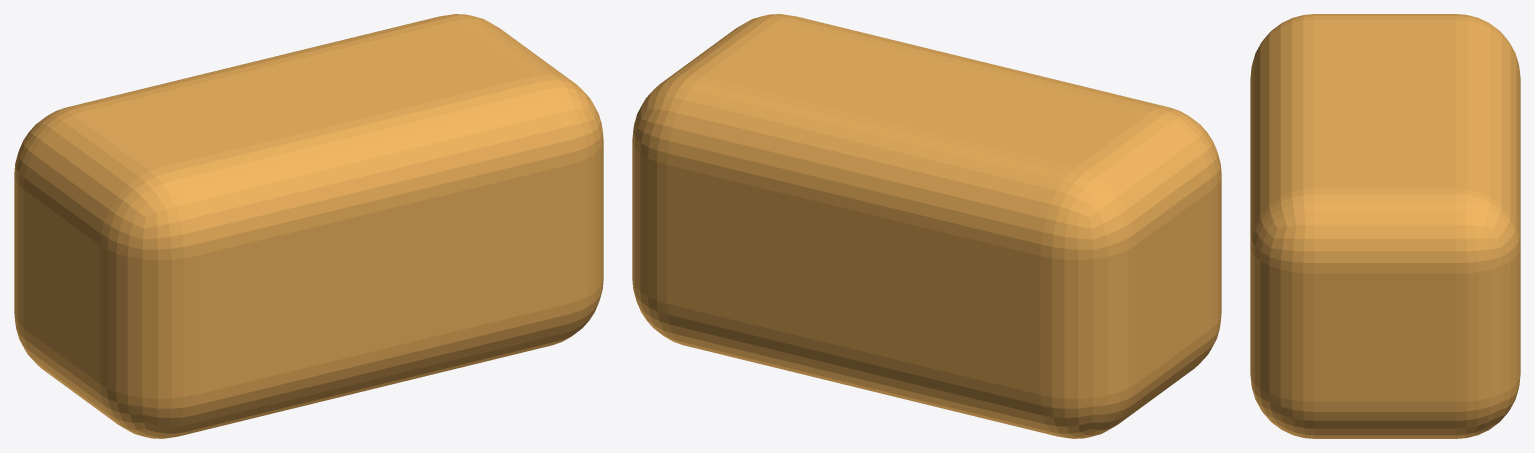
File: RoundCube_03.fbx
3 renders of one model, left to right at view 1: azimuth 30°, elevation 25°; view 2: azimuth 150°, elevation 25°; view 3: azimuth 270°, elevation 25°, orthographic. The views are drawn at different scales.
Parts seen in each view (by area): view 1: RoundCube_03; view 2: RoundCube_03; view 3: RoundCube_03.
Part boxes in pixels (x1,y1,x2,y2): RoundCube_03: [14, 14, 603, 438]; RoundCube_03: [632, 14, 1221, 438]; RoundCube_03: [1250, 14, 1520, 438].
Bounding box in the file's own units: 451 × 231 × 231.
